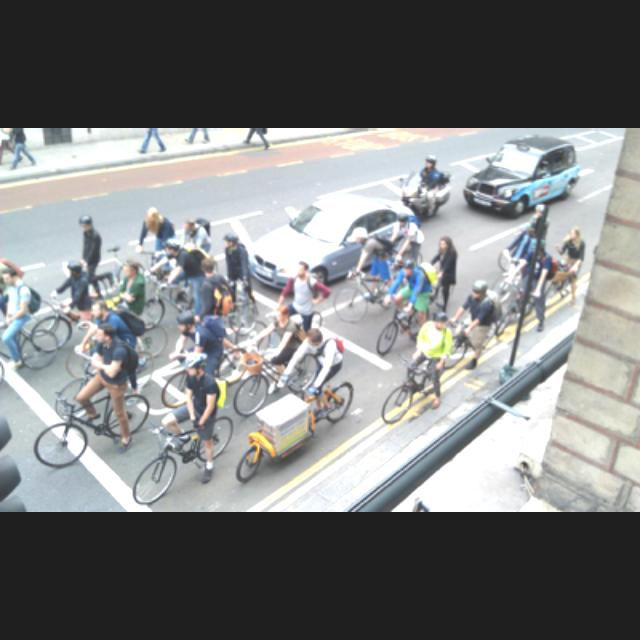With Helmet: (176, 349, 212, 379), (173, 308, 199, 338)
Without Helmet: (290, 252, 316, 282), (88, 323, 120, 345)
